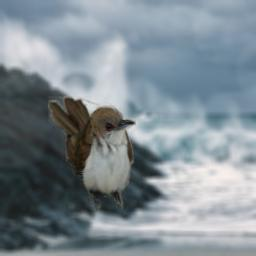Cuckoo: (48, 96, 136, 212)
